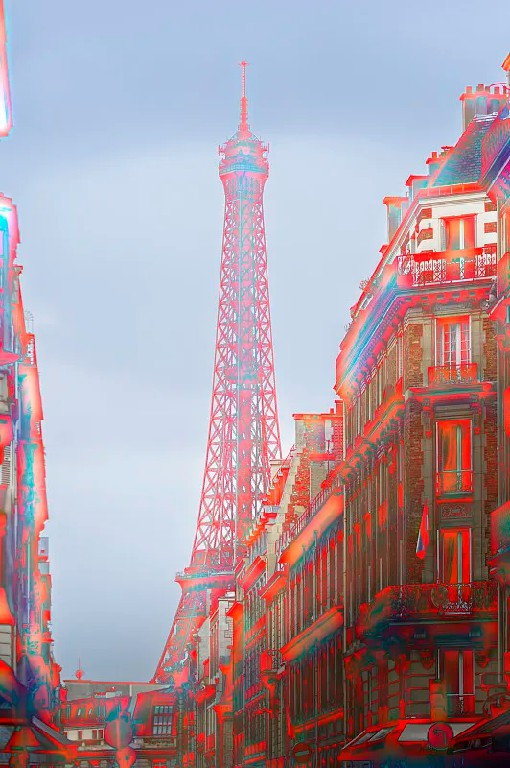Eiffel: (150, 63, 284, 683)
